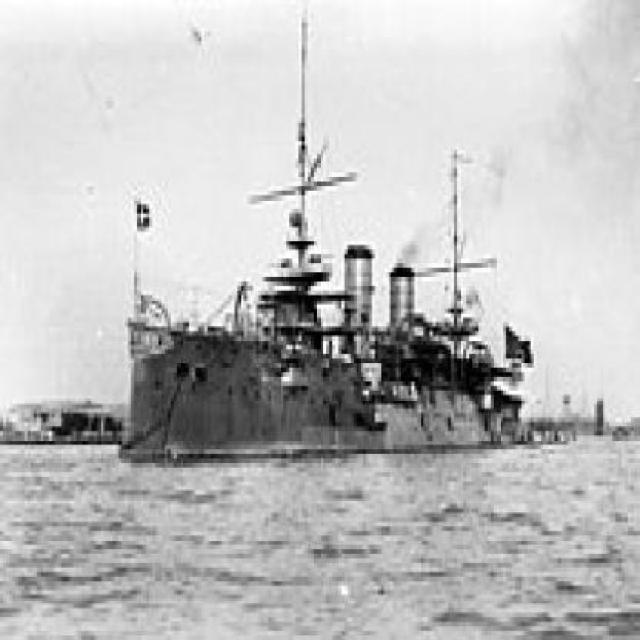warship2: (117, 6, 557, 478)
